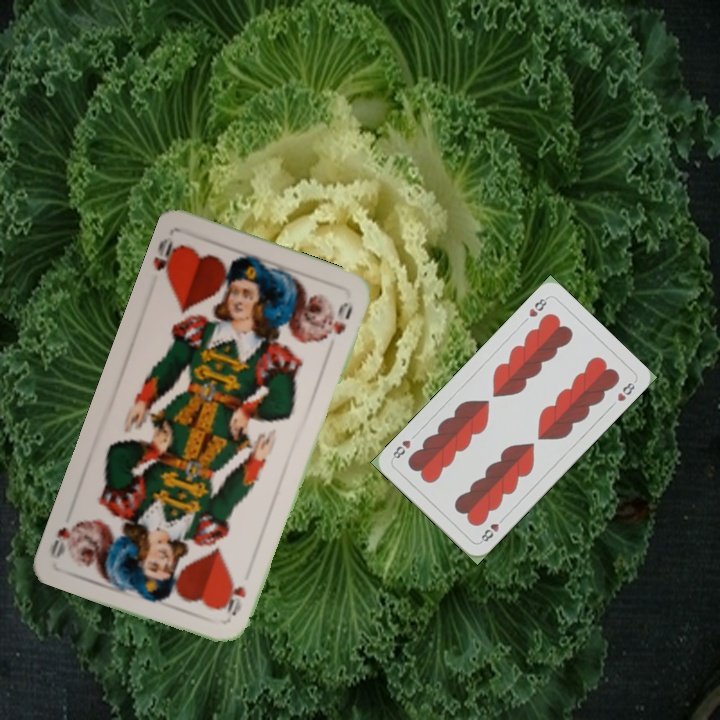H8: (476, 513, 508, 545), (525, 293, 551, 320)
HO: (149, 233, 185, 285), (221, 577, 249, 620)
